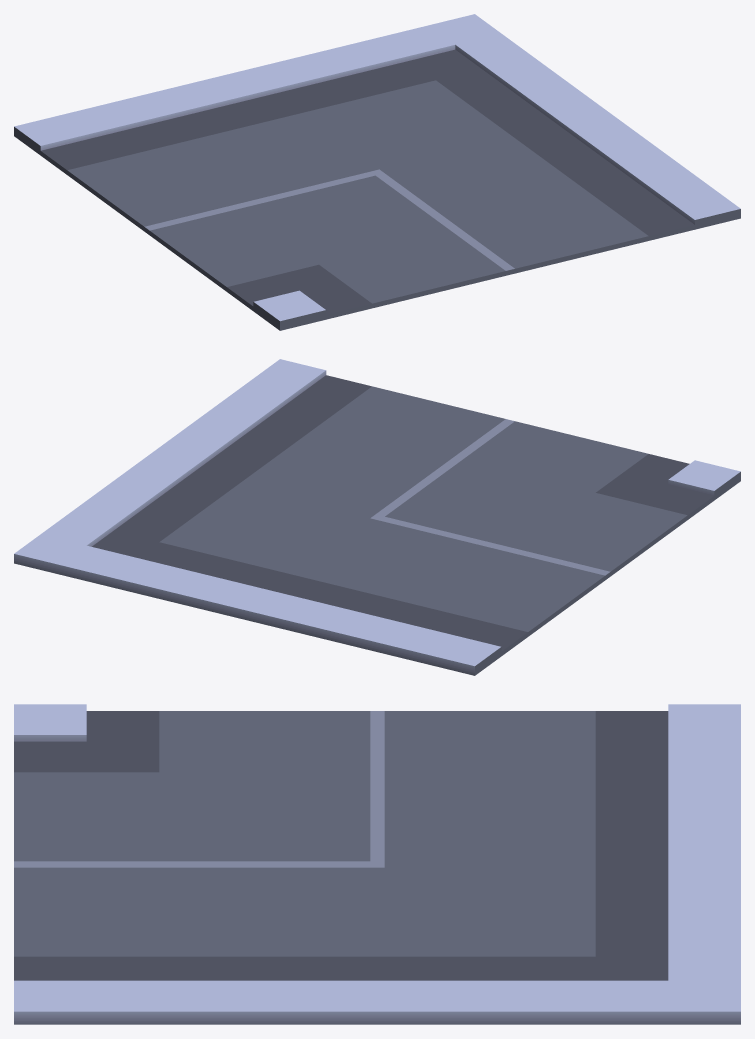
Rendered from road-bend-square.glb.
The picture shows the model from 3 angles, top to bottom: view 1: azimuth 30°, elevation 25°; view 2: azimuth 150°, elevation 25°; view 3: azimuth 270°, elevation 25°; orthographic projection. The views are drawn at different scales.
Parts seen in each view (by area): view 1: road-bend-square; view 2: road-bend-square; view 3: road-bend-square.
Boxes of the visible parts, x1,y1,x2,y2 form: road-bend-square: (14, 14, 740, 330); road-bend-square: (14, 359, 740, 675); road-bend-square: (14, 704, 740, 1024).
Size of the model in its own units: 1 by 0.02 by 1.
Materials: 1 (1 with a texture image).
